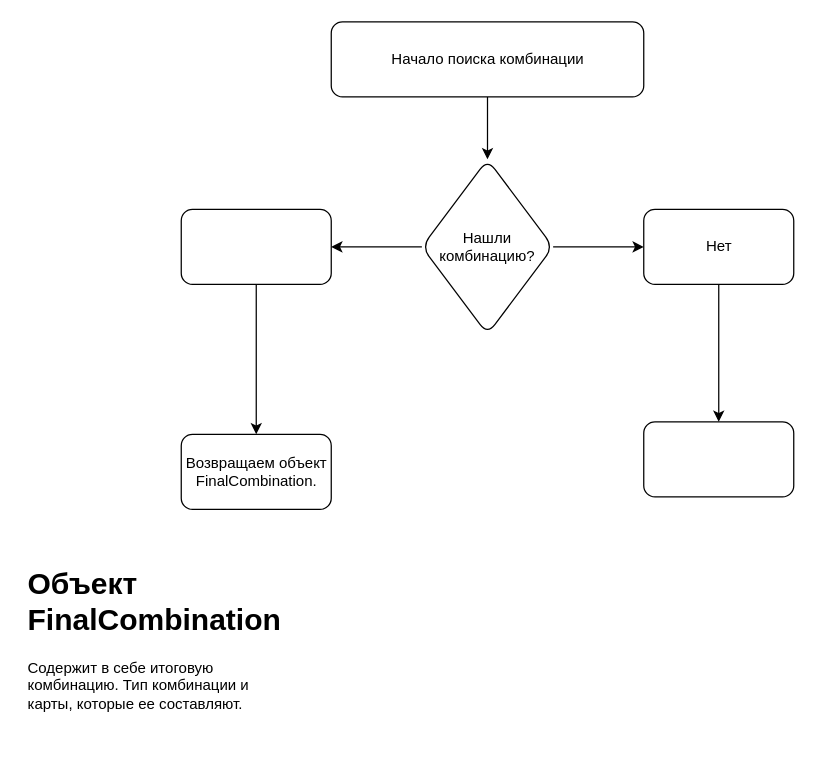
This 815x769 diagram has some shape labels left out. The box of each missing label's shape, as (x1, y1, x2, y2) in pixels:
Бросаем исключение.: (642, 421, 794, 497)
Да: (180, 208, 331, 284)
